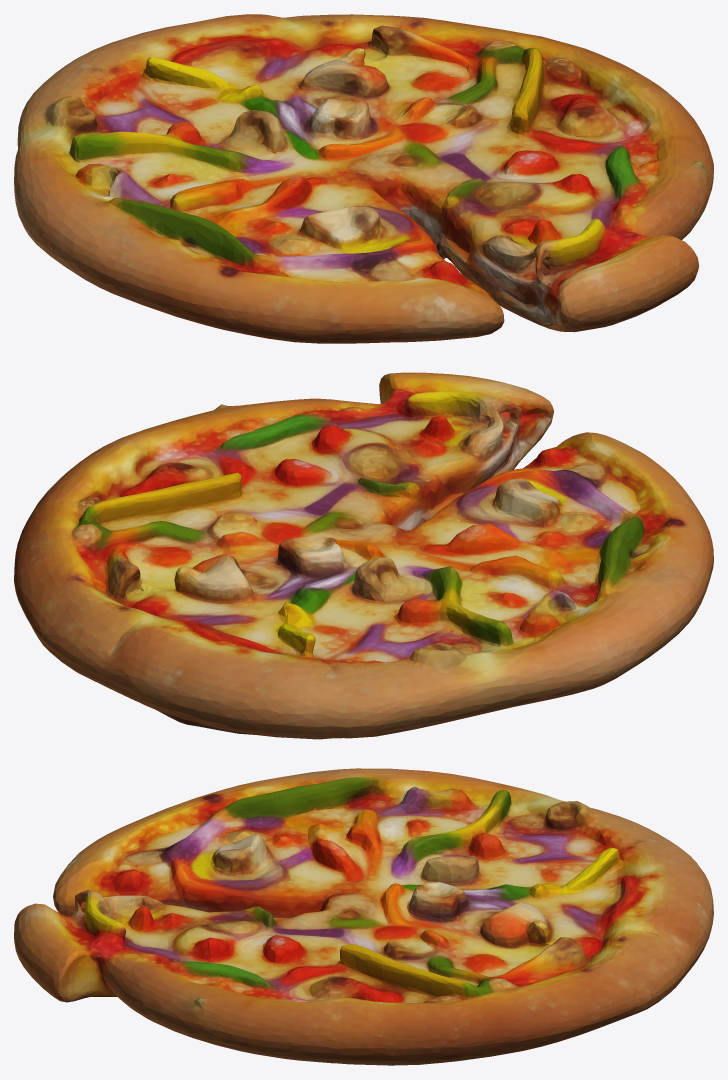
The model's file is veggi lover.glb.
3 renders of one model, top to bottom at view 1: azimuth 30°, elevation 25°; view 2: azimuth 150°, elevation 25°; view 3: azimuth 270°, elevation 25°, orthographic. The views are drawn at different scales.
Visible parts, largest first — view 1: world; view 2: world; view 3: world.
Boxes of the visible parts, x1,y1,x2,y2 form: world: (14,14,713,343); world: (14,372,713,739); world: (14,768,713,1065).
Bounding box in the file's own units: 0.8999 × 0.1125 × 0.9994.
1 material, 1 textured.
